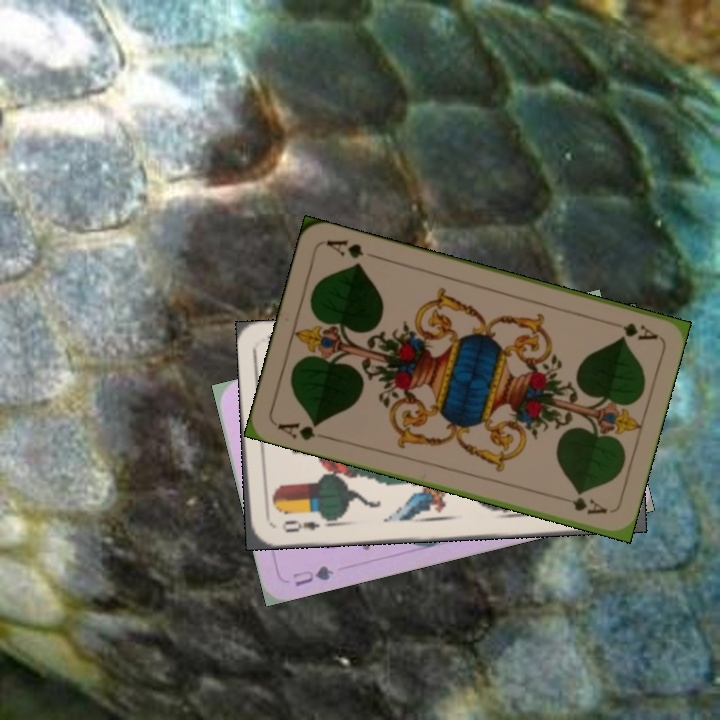EO: (278, 516, 322, 535)
GA: (602, 316, 660, 343), (273, 418, 331, 443)
GU: (289, 561, 337, 589)
